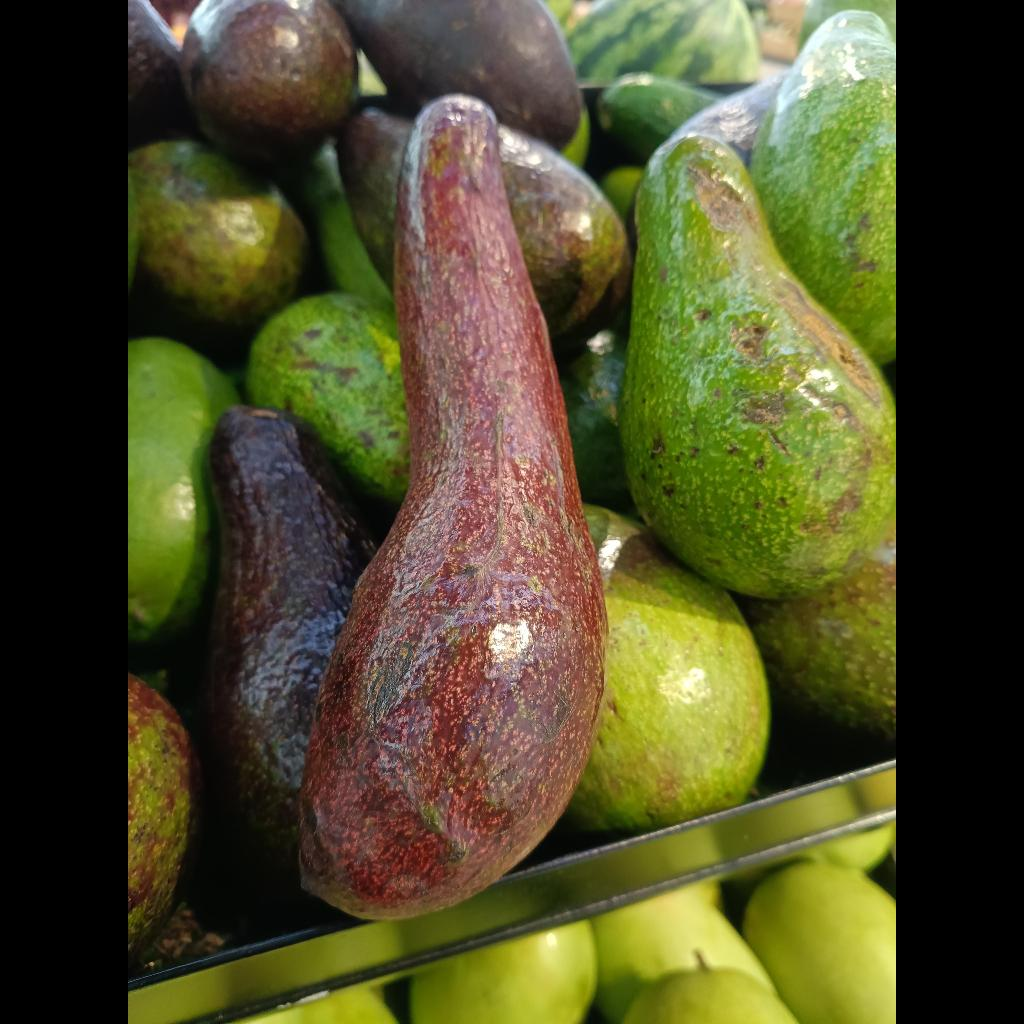anthracnose: (300, 95, 607, 919), (732, 324, 768, 361)
